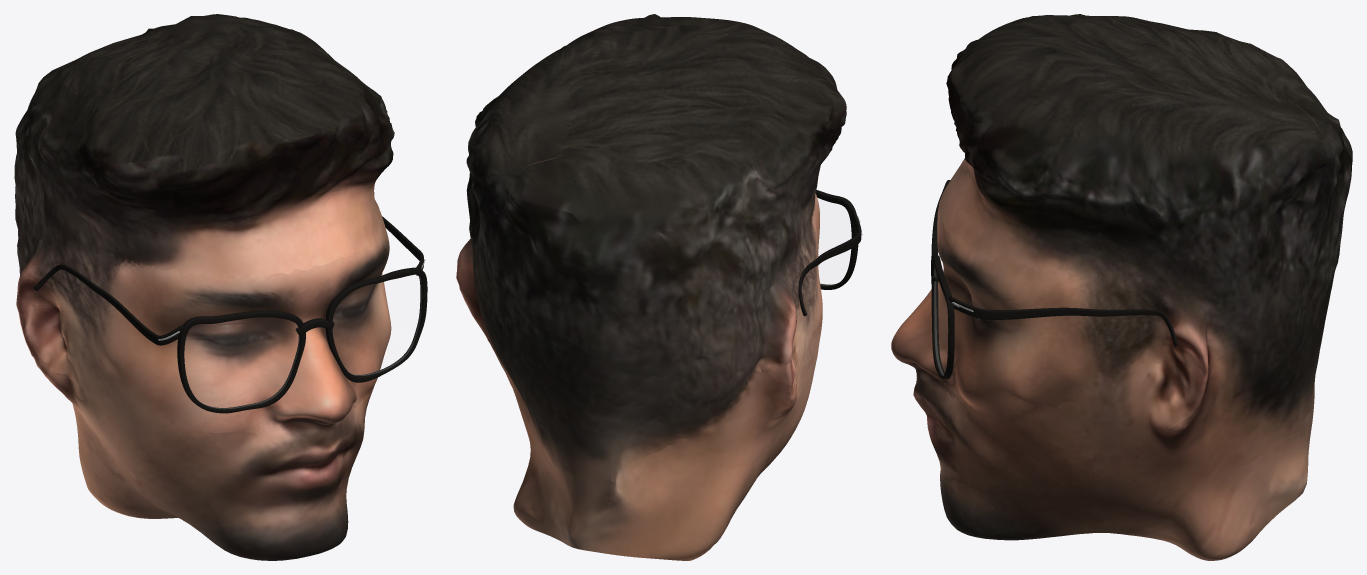
The picture shows the model from 3 angles, left to right: view 1: azimuth 30°, elevation 25°; view 2: azimuth 150°, elevation 25°; view 3: azimuth 270°, elevation 25°; orthographic projection. The views are drawn at different scales.
Visible parts, largest first — view 1: world, Eyeglass rim 1, Eyeglass rim 2, Eyeglass temple 1; view 2: world, Eyeglass temple 1, Eyeglass rim 1; view 3: world, Eyeglass temple 2, Eyeglass rim 2.
Part boxes in pixels (<box>): world: <box>14,14,394,560</box>; Eyeglass rim 1: <box>177,310,305,413</box>; Eyeglass rim 2: <box>325,267,427,382</box>; Eyeglass temple 1: <box>33,264,187,345</box>; world: <box>456,14,846,560</box>; Eyeglass temple 1: <box>798,209,861,316</box>; Eyeglass rim 1: <box>815,190,858,289</box>; world: <box>891,14,1352,560</box>; Eyeglass temple 2: <box>948,296,1178,346</box>; Eyeglass rim 2: <box>931,255,954,379</box>.
Bounding box in the file's own units: 0.2263 × 0.3059 × 0.2644.
Materials: 6 (1 with a texture image).
